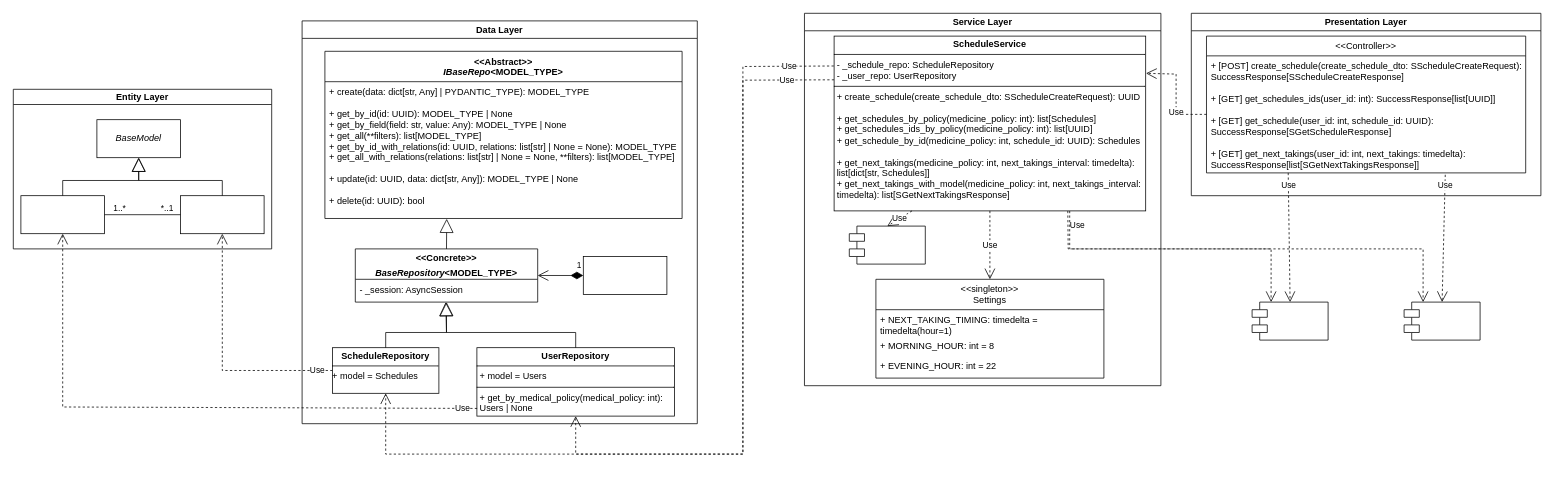
Some shapes in this 1554 by 478 pixel diagram are drawn without their labels. The shapes that lost their labels are listed below. From the top down, each one's centre as x and y in pixels, then its label:
At [62,214]: "Users".
At [222,214]: "Schedules".
At [887,244]: "utils".
At [625,275]: "AsyncSession".
At [1289,320]: "schemas".
At [1441,320]: "logging".
